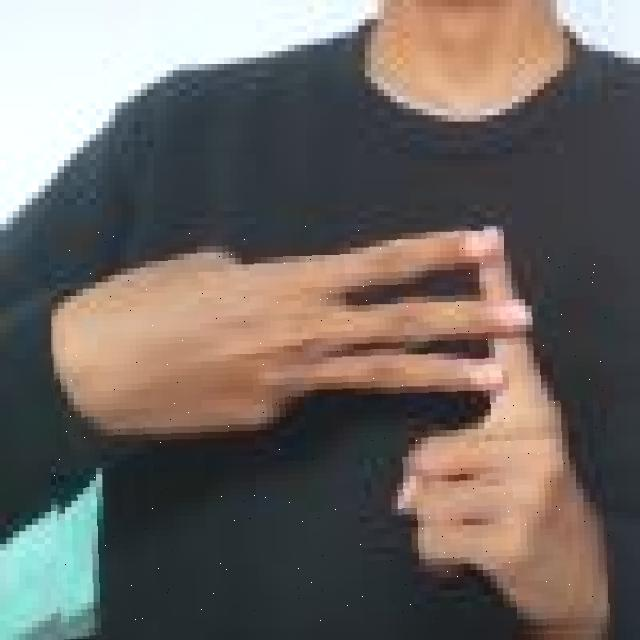B: (52, 227, 609, 632)
